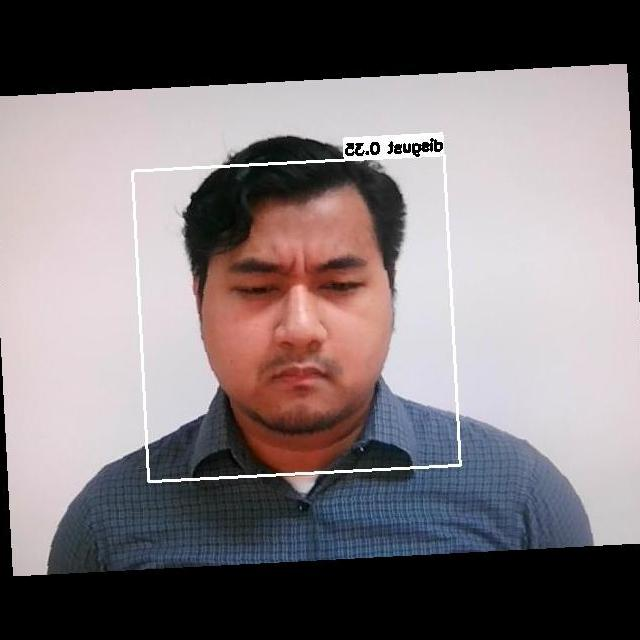Angry: (203, 231, 405, 408)
